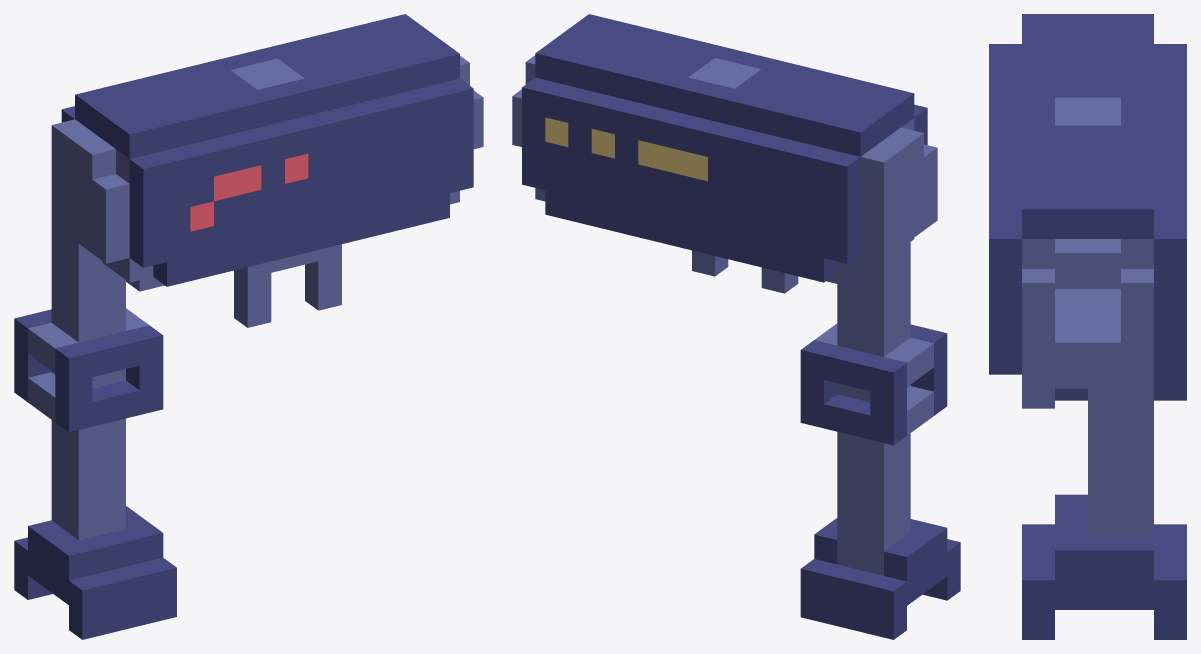
File: chest.fbx
The picture shows the model from 3 angles, left to right: view 1: azimuth 30°, elevation 25°; view 2: azimuth 150°, elevation 25°; view 3: azimuth 270°, elevation 25°; orthographic projection. The views are drawn at different scales.
Visible parts, largest first — view 1: Default; view 2: Default; view 3: Default.
Boxes of the visible parts, left/top/right/bottom form: Default: left=14, top=14, right=483, bottom=639; Default: left=512, top=14, right=960, bottom=639; Default: left=989, top=14, right=1186, bottom=639.
Size of the model in its own units: 17 by 20 by 6.
Materials: 1 (1 with a texture image).
